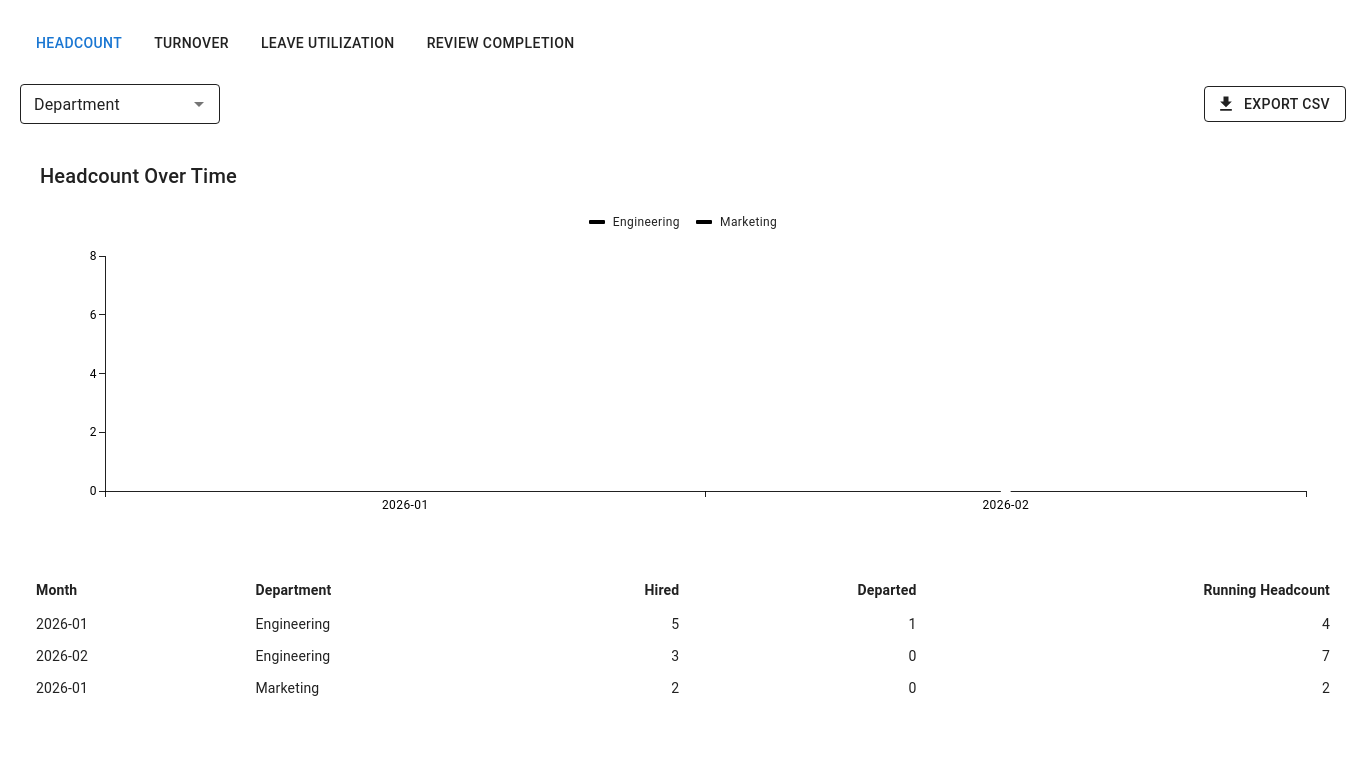
Test case: ReportsDashboard › shows year filter on leave tab
Click the tab "Leave Utilization": (328, 44) [245,20,411,68]
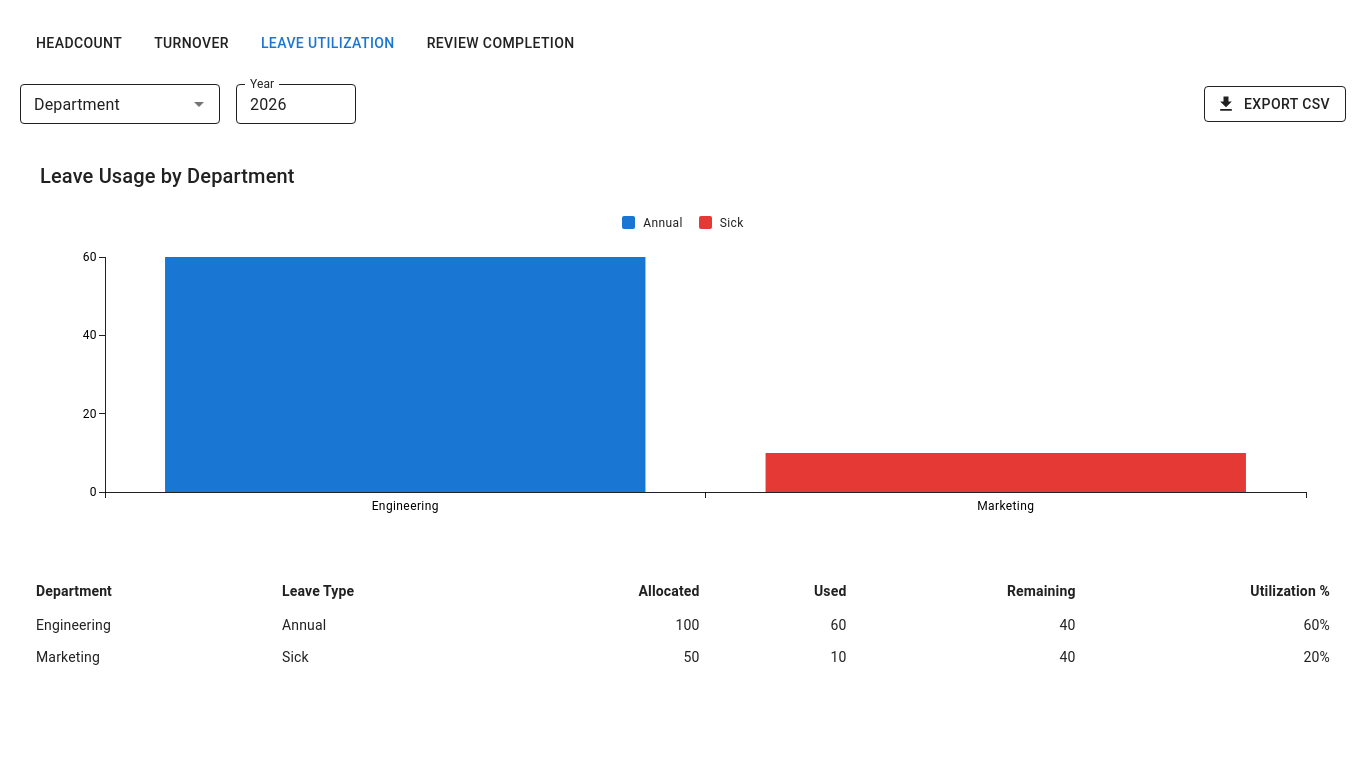
Check: the number field labelled "Year" is shown, box [236,84,356,124]
